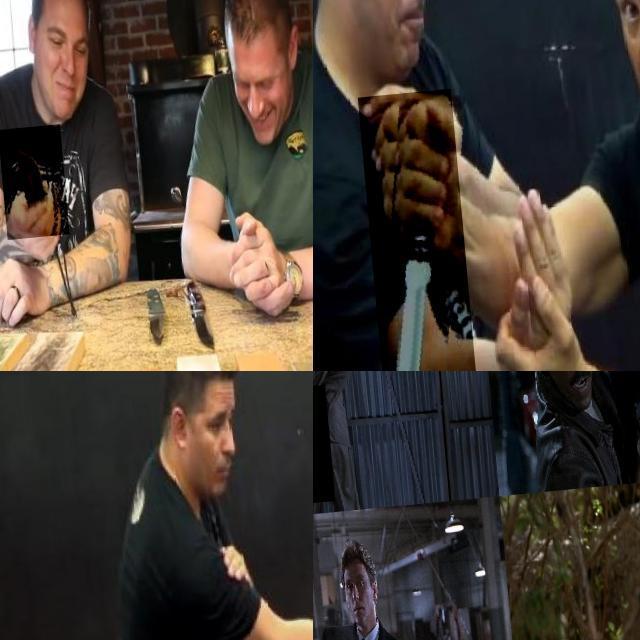-: (353, 93, 471, 371), (0, 129, 62, 243)
gun-knife-thesis - v11 Yolov5 augmented: (313, 387, 342, 508), (621, 371, 640, 470)
